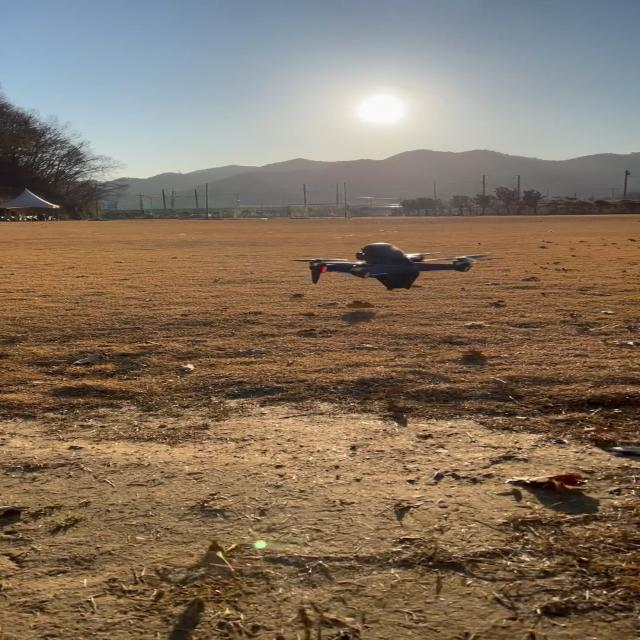drone: (290, 242, 488, 290)
